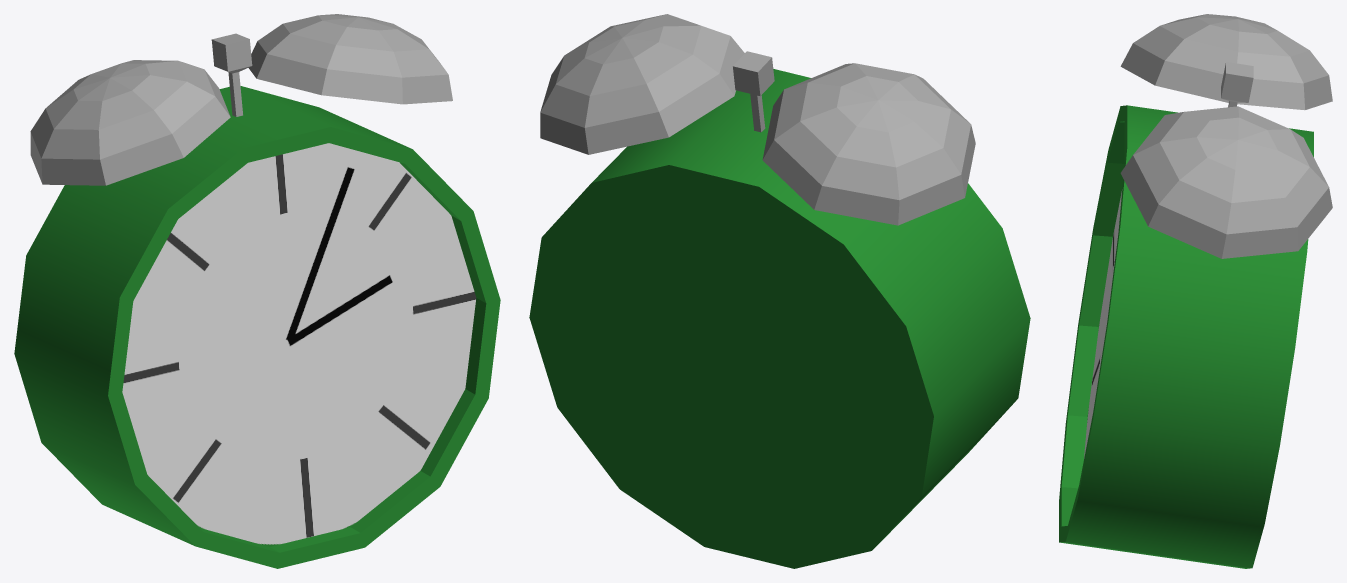
Rendered from alarmclock.fbx.
The picture shows the model from 3 angles, left to right: view 1: azimuth 30°, elevation 25°; view 2: azimuth 150°, elevation 25°; view 3: azimuth 270°, elevation 25°; orthographic projection. The views are drawn at different scales.
Parts seen in each view (by area): view 1: pCylinder2; view 2: pCylinder2; view 3: pCylinder2.
Part boxes in pixels (x1,y1,x2,y2): pCylinder2: (14, 14, 500, 568); pCylinder2: (529, 14, 1030, 568); pCylinder2: (1059, 14, 1332, 568).
Bounding box in the file's own units: 2.04 × 2.34 × 1.21.
